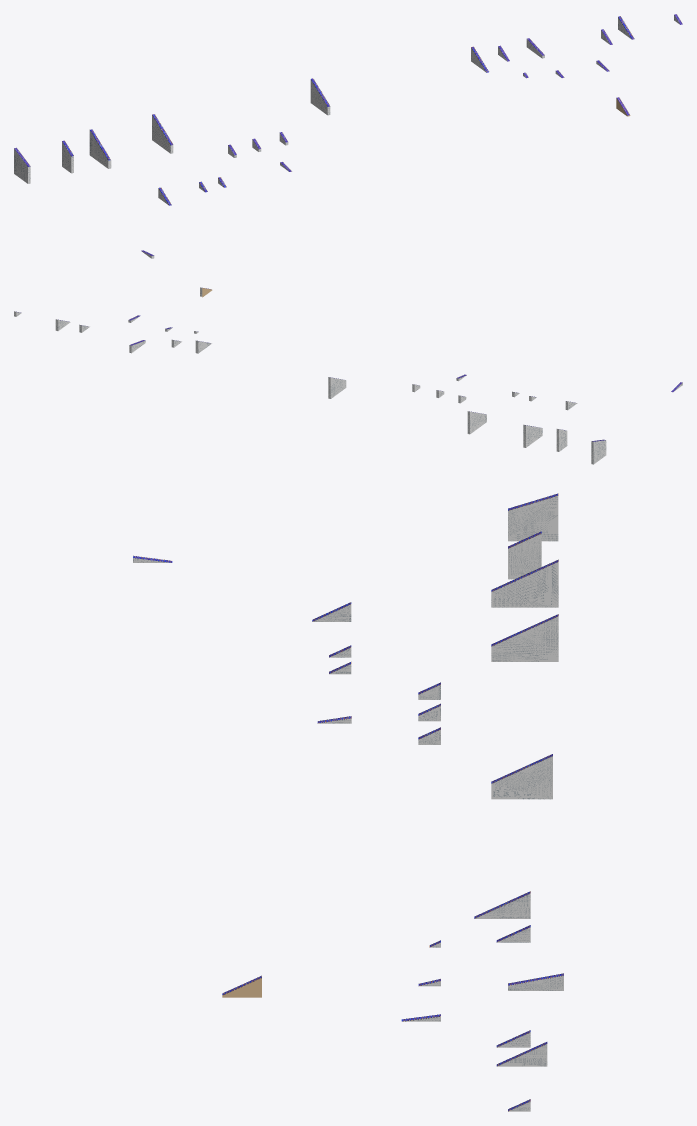
Rendered from Map_Ramps.dae.
3 views of the same model, one above another, from view 1: azimuth 30°, elevation 25°; view 2: azimuth 150°, elevation 25°; view 3: azimuth 270°, elevation 25° (orthographic). The views are drawn at different scales.
Parts seen in each view (by area): view 1: group_0; view 2: group_0 (×4); view 3: group_0 (×5).
Boxes of the visible parts, left/top/right/bottom form: group_0: left=89, top=130, right=111, bottom=168; group_0 (×4): left=328, top=377, right=606, bottom=464; group_0 (×5): left=491, top=496, right=558, bottom=799.
Size of the model in its own units: 9527 by 3032 by 394.
